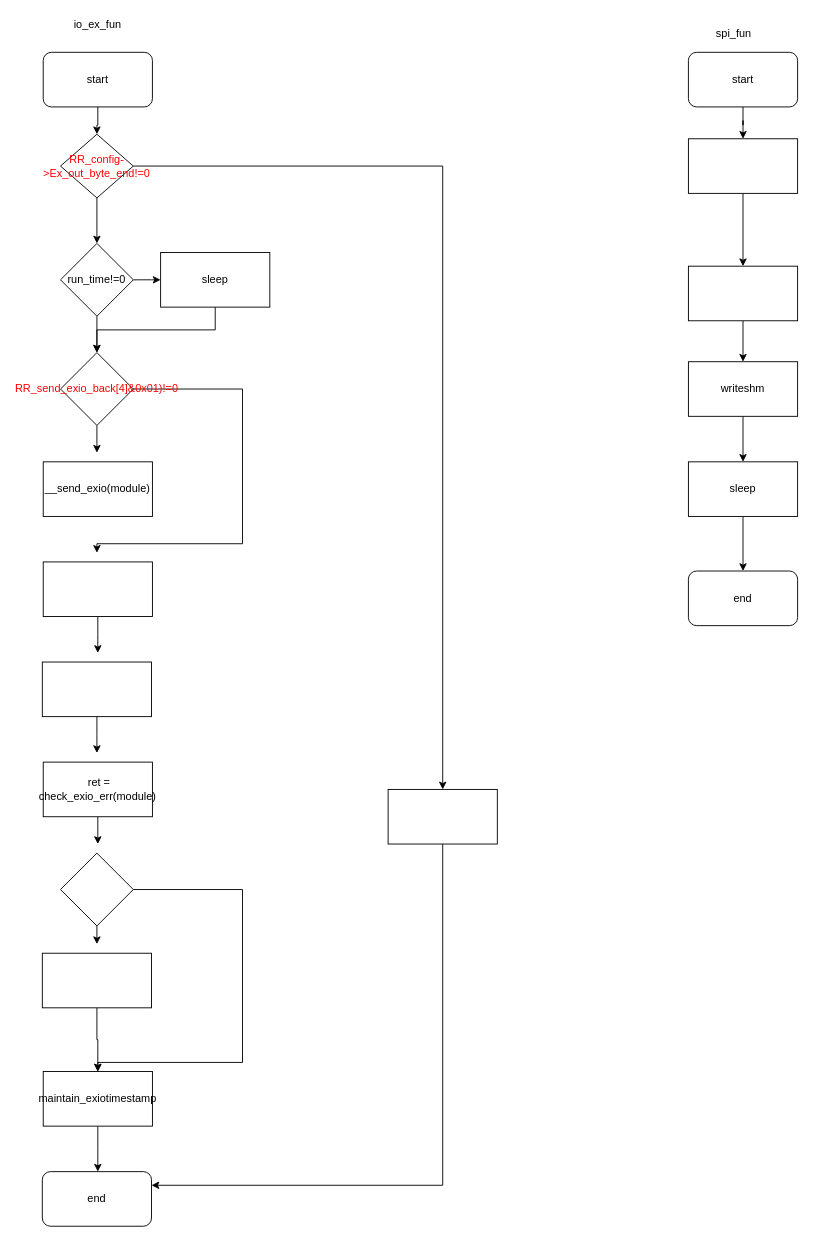
Some shapes in this 814 by 1242 pixel diagram are drawn without their labels. The centre of each missing label's shape, as x and y in pixels:
"__rev_exio(module)" goes at point 96,689.
"handle_reconnect" goes at point 96,980.
"nanosleep(30ms)" goes at point 442,816.
"readshm" goes at point 743,165.
"ret == ERR_NEED_RECONNECT" goes at point 96,889.
"transform_transfer" goes at point 743,293.
"wait_before_get(module)" goes at point 97,589.
